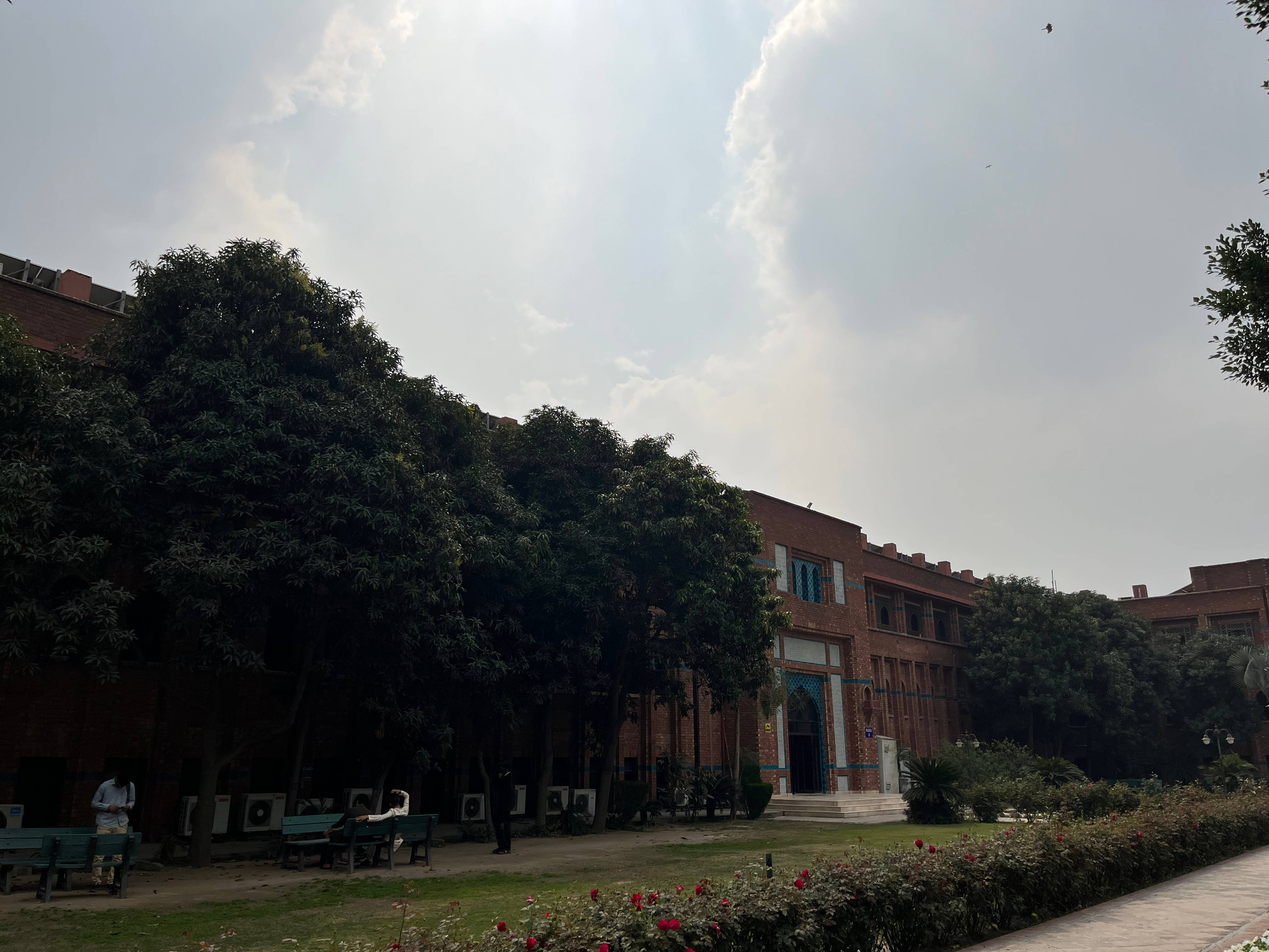Block D: (4, 240, 1053, 836)
